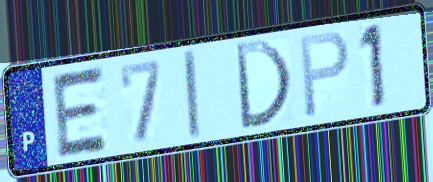1: (357, 20, 389, 113)
7: (117, 55, 164, 147)
D: (232, 38, 295, 133)
E: (50, 62, 112, 161)
I: (181, 47, 204, 143)
P: (297, 28, 352, 122)
